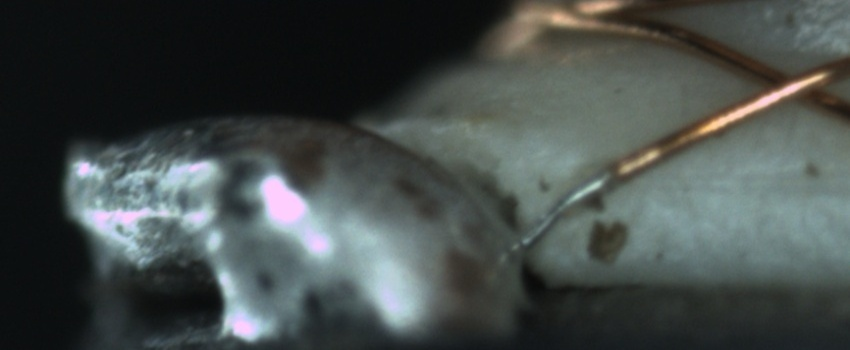CL: (735, 52, 842, 116)
DL: (666, 147, 850, 215)
TS: (510, 167, 616, 253)
TTCW: (508, 143, 650, 255)
